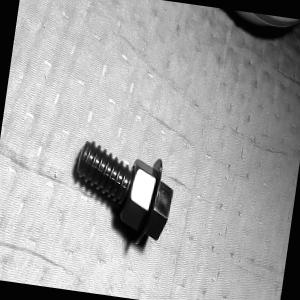parafuso: (66, 137, 178, 250)
